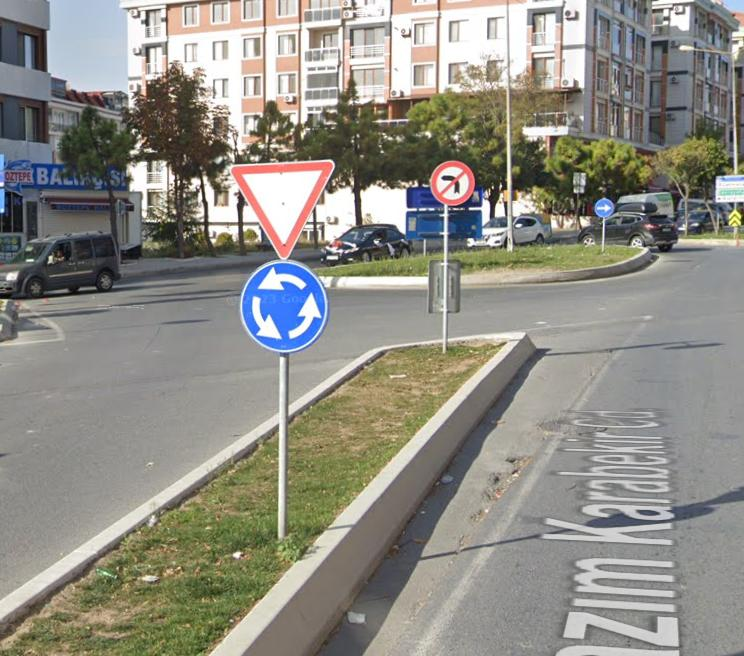crossroads: (248, 263, 326, 350)
leftturnsareforbidden: (433, 161, 476, 206), (595, 197, 615, 219)
